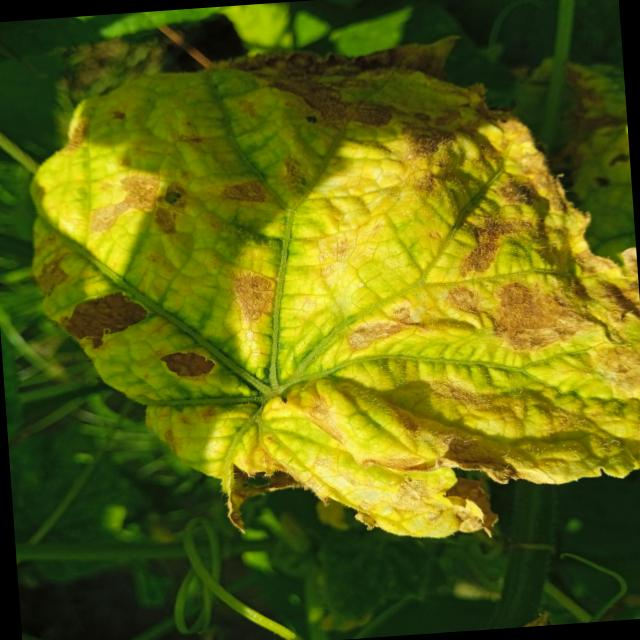cucumber_gummy: (7, 17, 640, 582)
